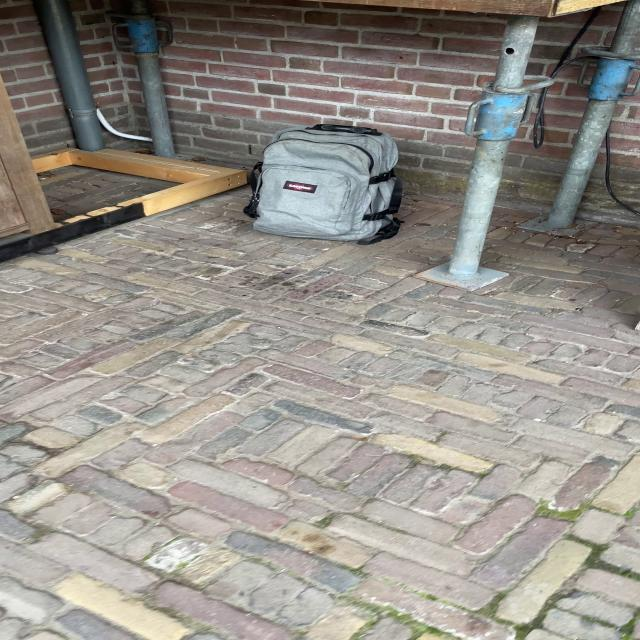backpack: (238, 118, 411, 245)
